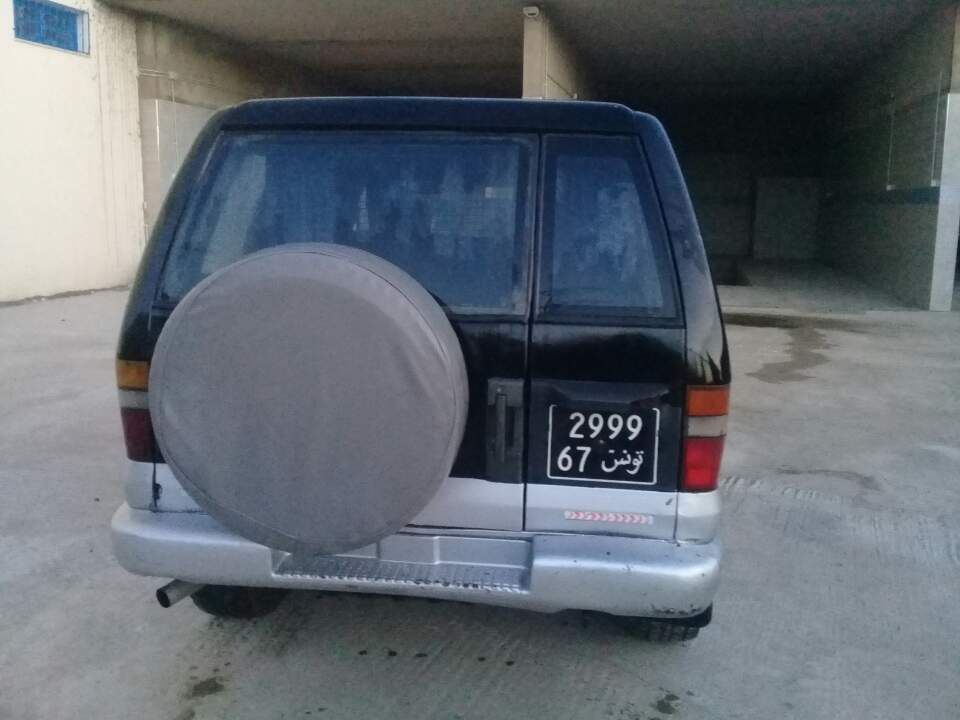LP: (547, 402, 658, 486)
